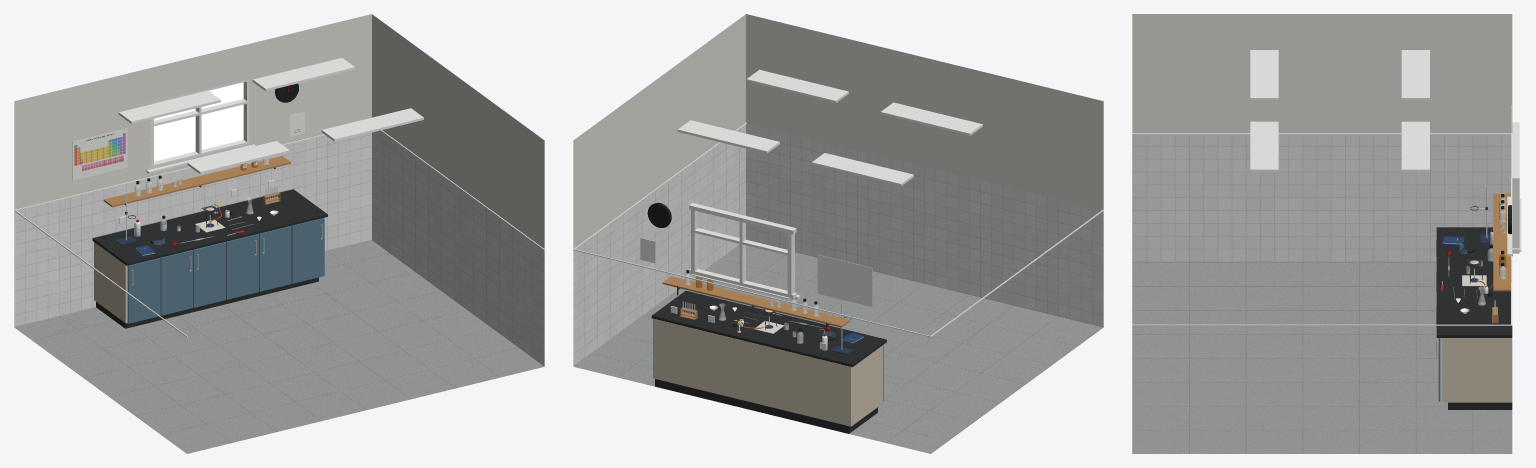
The model's file is laboratorio.glb.
3 views of the same model, side by side, from view 1: azimuth 30°, elevation 25°; view 2: azimuth 150°, elevation 25°; view 3: azimuth 270°, elevation 25° (orthographic). The views are drawn at different scales.
Visible parts, largest first — view 1: Floor, WallBackPaint, WallBackTiles, WallRightTiles, WallRightPaint, BenchDoors, BenchTop, LampHousing, WindowSky, WindowFrame, BenchCarcass, Shelf (+3 smaller); view 2: WallFrontTiles, WallFrontPaint, Floor, WallRightPaint, WallRightTiles, BenchCarcass, BenchTop, LampHousing, WindowFrame, PosterBoard, Shelf, BenchPlinth (+1 smaller); view 3: Floor, WallLeftTiles, WallLeftPaint, BenchTop, LampHousing, BenchCarcass, TileTrim, Shelf, WindowFrame, BenchPlinth.
Boxes of the visible parts, bbox=[...] form: Floor: bbox=[14, 240, 544, 453]; WallBackPaint: bbox=[14, 14, 371, 209]; WallBackTiles: bbox=[14, 132, 371, 327]; WallRightTiles: bbox=[372, 130, 544, 366]; WallRightPaint: bbox=[372, 14, 544, 248]; BenchDoors: bbox=[127, 218, 324, 323]; BenchTop: bbox=[92, 189, 327, 265]; LampHousing: bbox=[118, 58, 423, 174]; WindowSky: bbox=[154, 82, 243, 161]; WindowFrame: bbox=[146, 77, 255, 173]; BenchCarcass: bbox=[94, 233, 258, 323]; Shelf: bbox=[103, 156, 290, 207]; WallFrontTiles: bbox=[746, 123, 1103, 327]; WallFrontPaint: bbox=[746, 14, 1103, 209]; Floor: bbox=[573, 245, 1103, 453]; WallRightPaint: bbox=[573, 14, 745, 248]; WallRightTiles: bbox=[573, 125, 745, 366]; BenchCarcass: bbox=[653, 318, 882, 426]; BenchTop: bbox=[651, 290, 886, 367]; LampHousing: bbox=[677, 69, 982, 186]; WindowFrame: bbox=[689, 203, 800, 299]; PosterBoard: bbox=[817, 254, 872, 306]; Shelf: bbox=[662, 276, 849, 327]; BenchPlinth: bbox=[655, 379, 877, 433]; Floor: bbox=[1132, 262, 1512, 453]; WallLeftTiles: bbox=[1132, 135, 1510, 262]; WallLeftPaint: bbox=[1132, 14, 1512, 133]; BenchTop: bbox=[1436, 227, 1512, 337]; LampHousing: bbox=[1250, 50, 1429, 172]; BenchCarcass: bbox=[1442, 338, 1512, 402]; TileTrim: bbox=[1132, 133, 1512, 325]; Shelf: bbox=[1493, 193, 1510, 291]; WindowFrame: bbox=[1507, 122, 1521, 256]; BenchPlinth: bbox=[1448, 402, 1512, 409].
Bounding box in the file's own units: 4.8 × 2.9 × 4.12.
52 materials, 2 textured.
